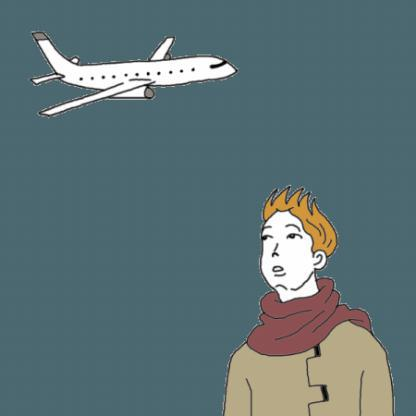CIV_Plane: (21, 25, 242, 128)
